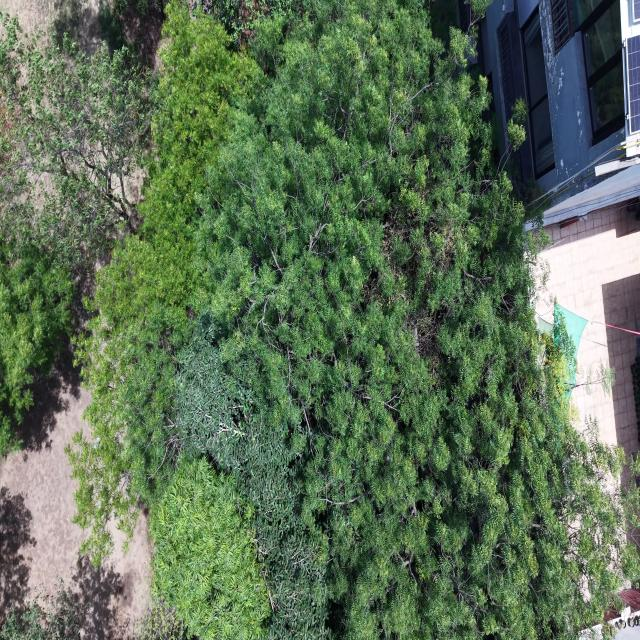DRY_AREA: (0, 355, 151, 639), (0, 367, 150, 639), (0, 0, 164, 70), (0, 0, 99, 53), (0, 0, 55, 31)
ROOFTOP_BUILDING: (475, 0, 640, 432)
VEGETATION_TREE: (69, 0, 638, 639), (165, 3, 623, 637), (201, 2, 624, 638), (70, 6, 257, 561), (0, 15, 150, 454), (177, 313, 328, 638), (0, 16, 150, 271), (150, 458, 270, 639), (0, 246, 73, 455), (51, 0, 165, 69), (0, 580, 95, 639), (0, 581, 88, 639), (198, 0, 302, 48), (136, 600, 185, 639)
